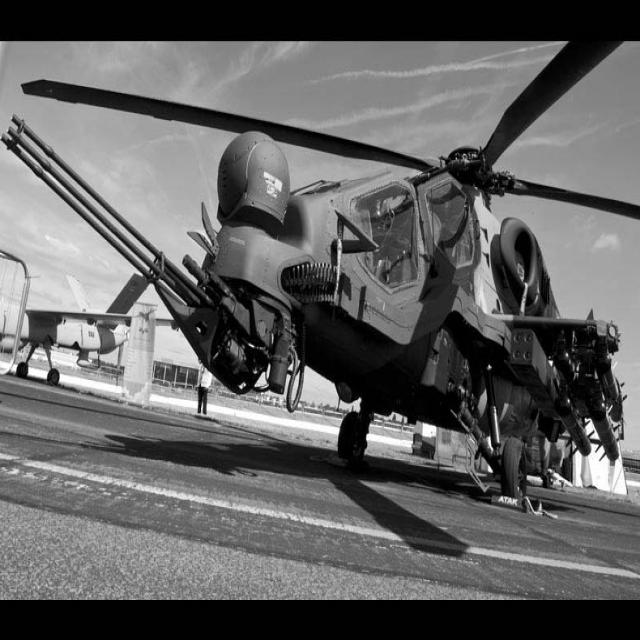helicopter: (26, 41, 640, 509)
